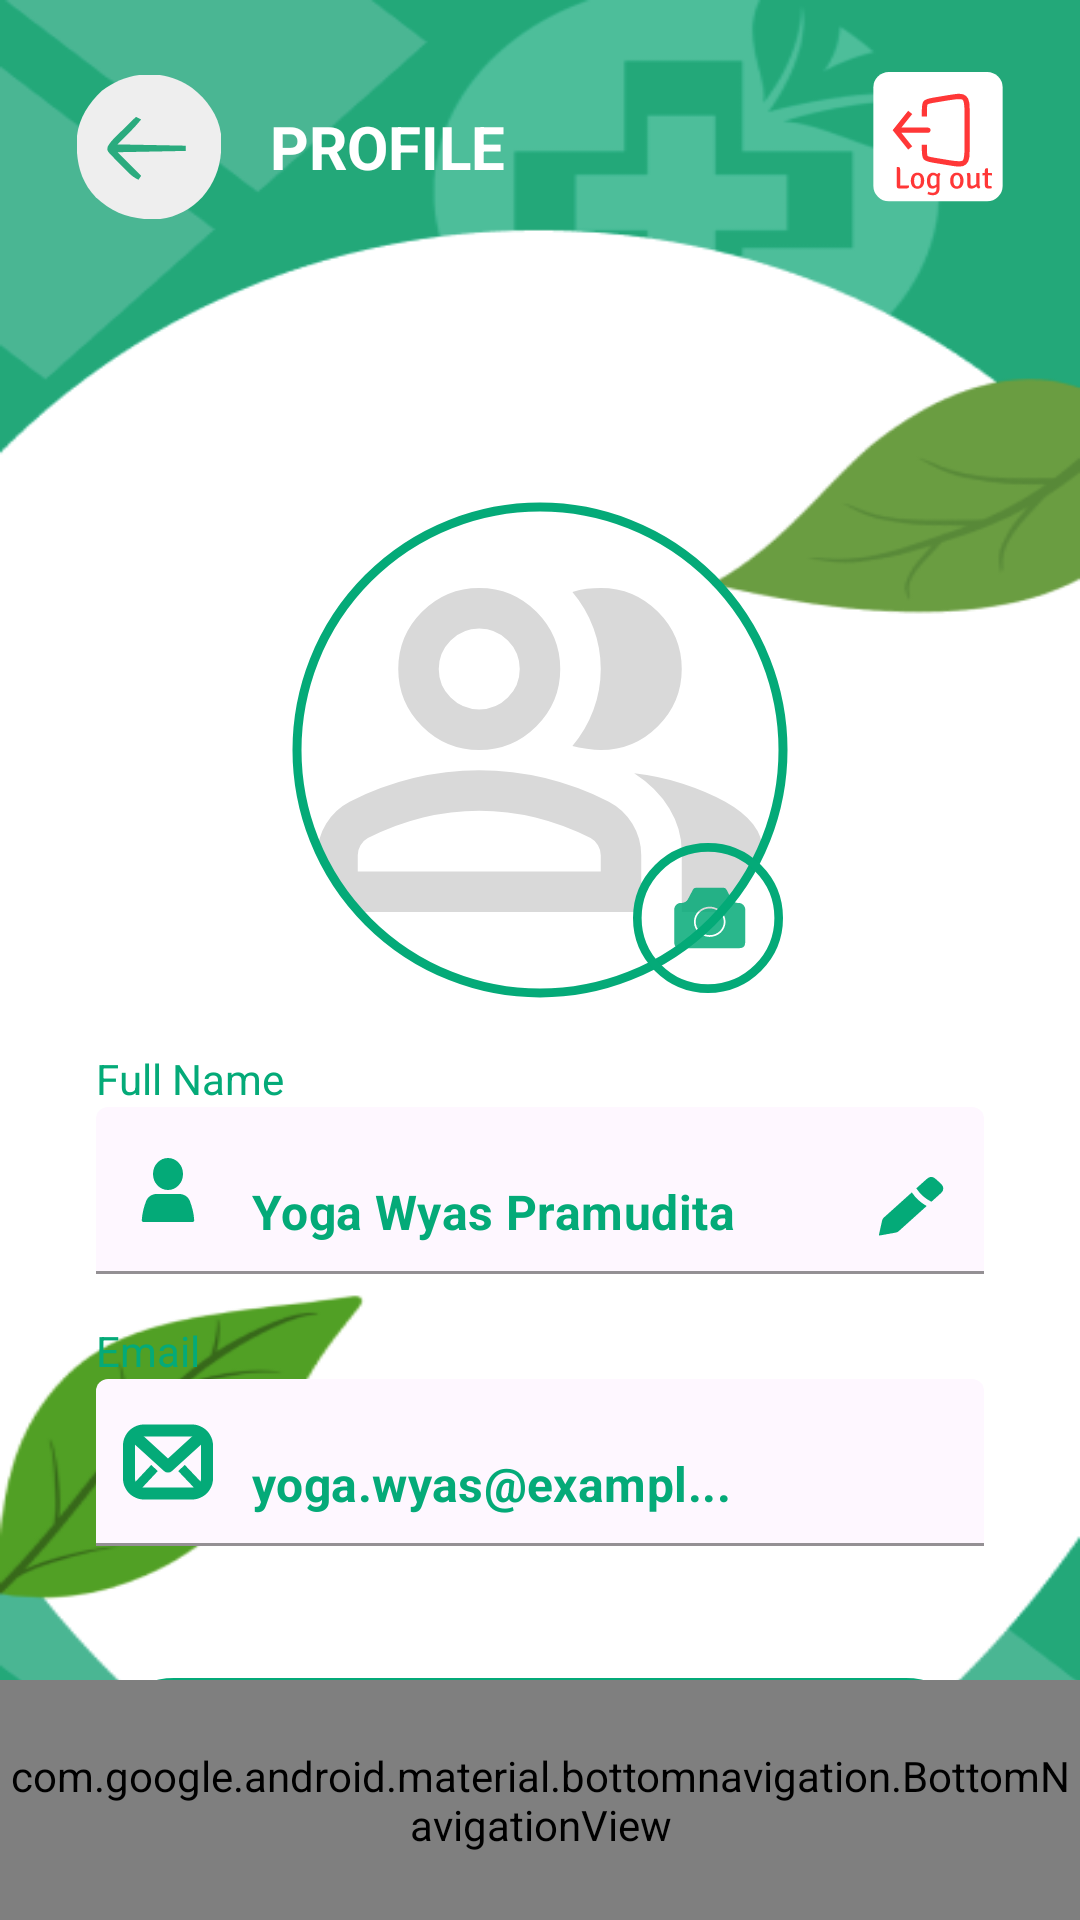

Point at icon controls on the screen. Image size 1080×1920, points as (x=x, y=y).
arrow back: (x=147, y=147)
camera: (x=708, y=918)
